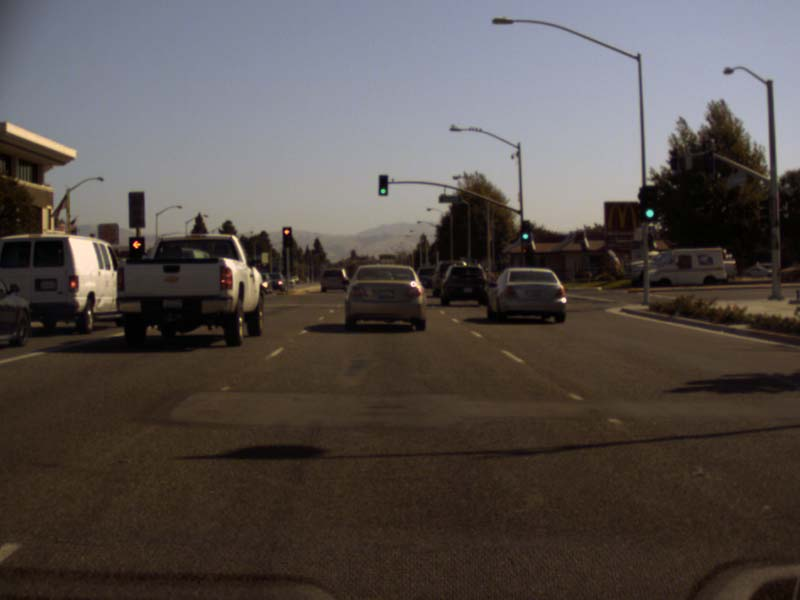Green: (641, 186, 655, 221), (378, 173, 388, 195), (520, 220, 530, 242)
Red: (129, 236, 144, 265), (281, 226, 293, 248)
